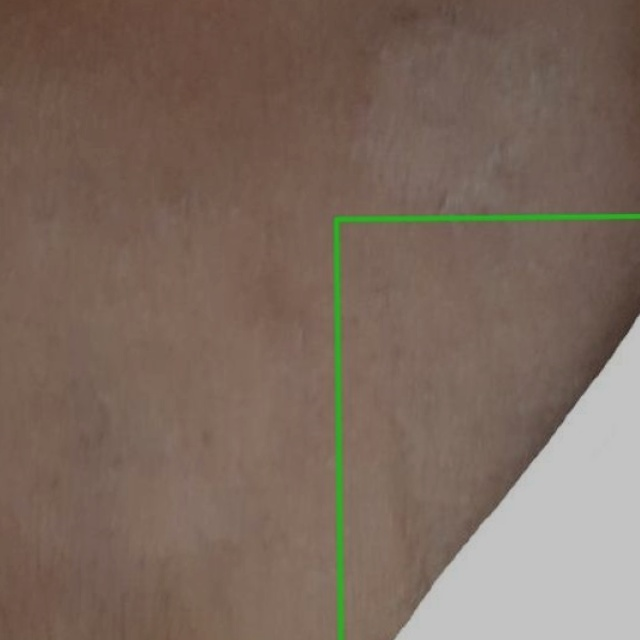Tinea Corporis: (336, 216, 639, 639)
